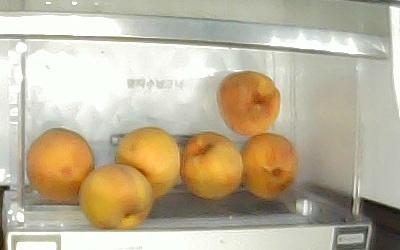peach: (25, 126, 94, 201), (77, 161, 153, 229), (113, 125, 181, 199), (178, 130, 244, 200), (214, 68, 281, 136), (238, 131, 298, 199)
